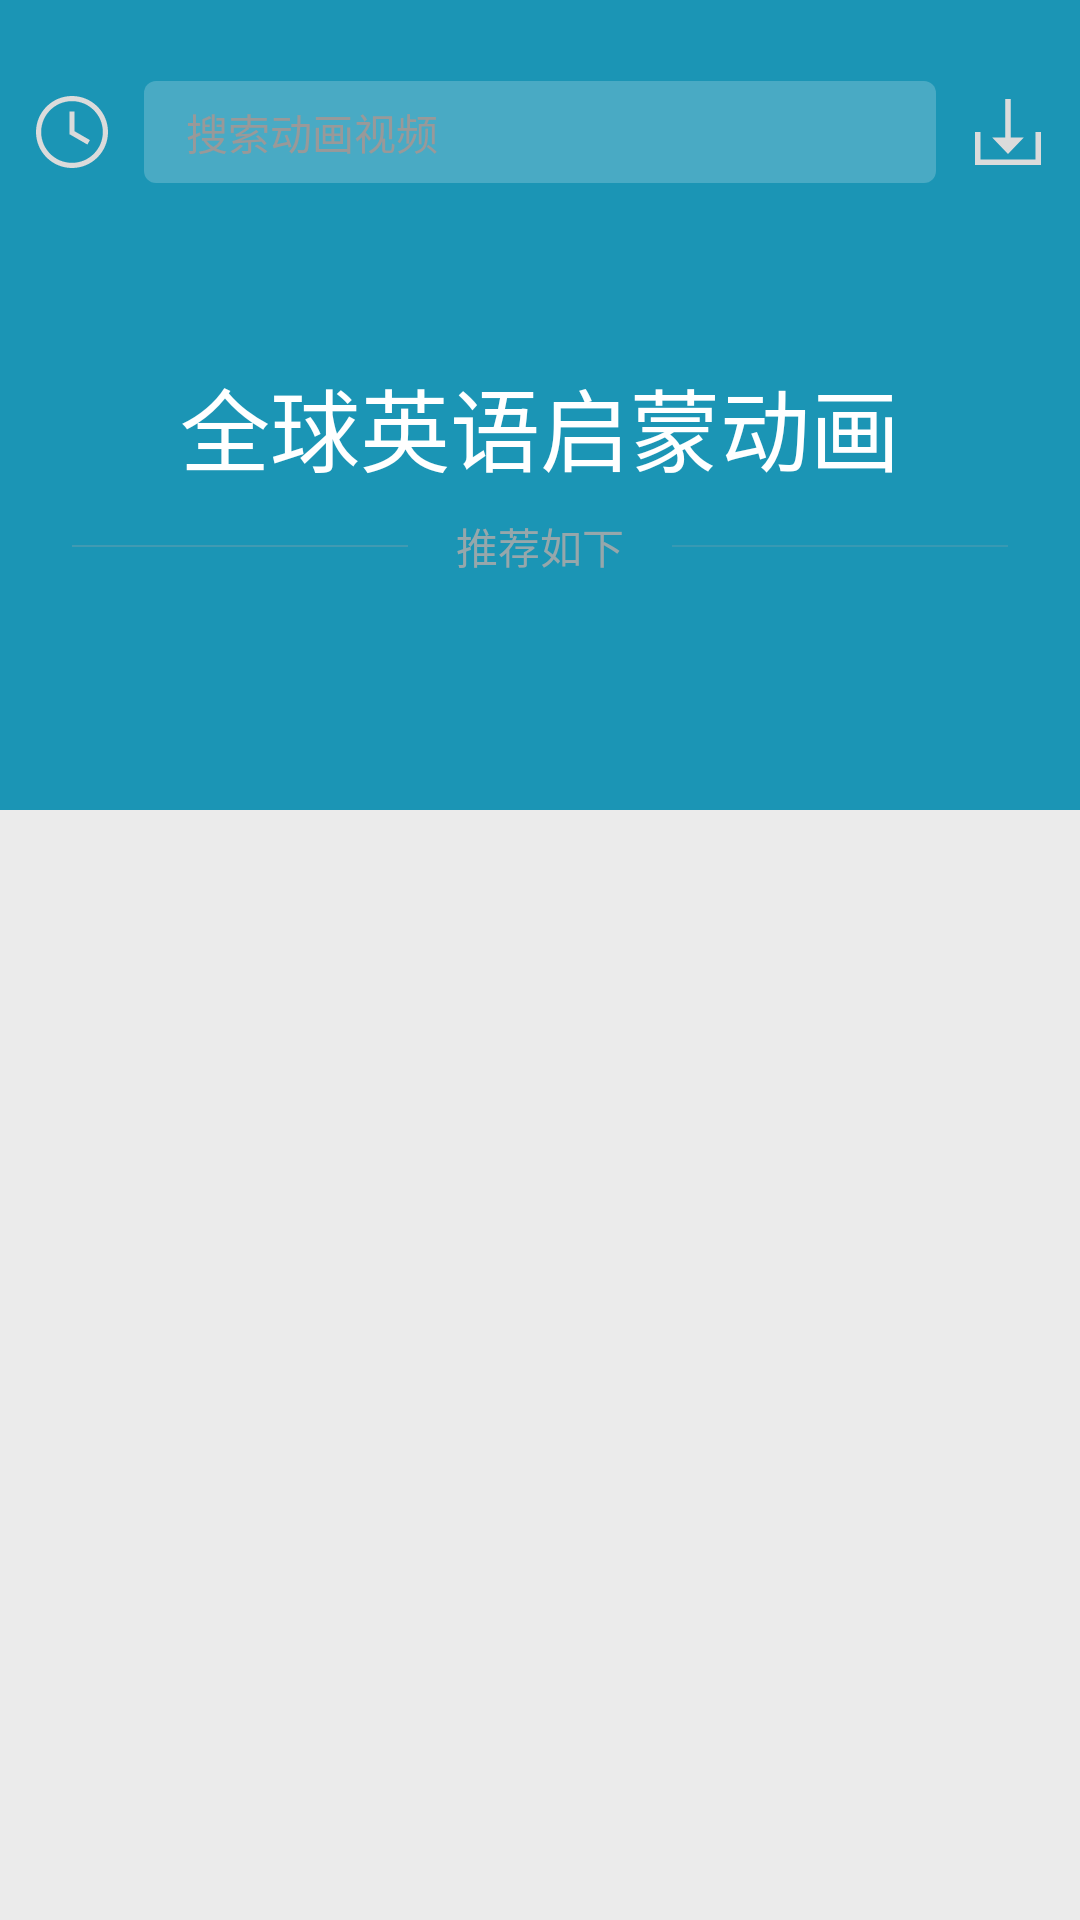

Where to tap for icons on this 1080*1920 app screen, as point (x, y):
downloaded: point (1008, 132)
history: point (72, 132)
